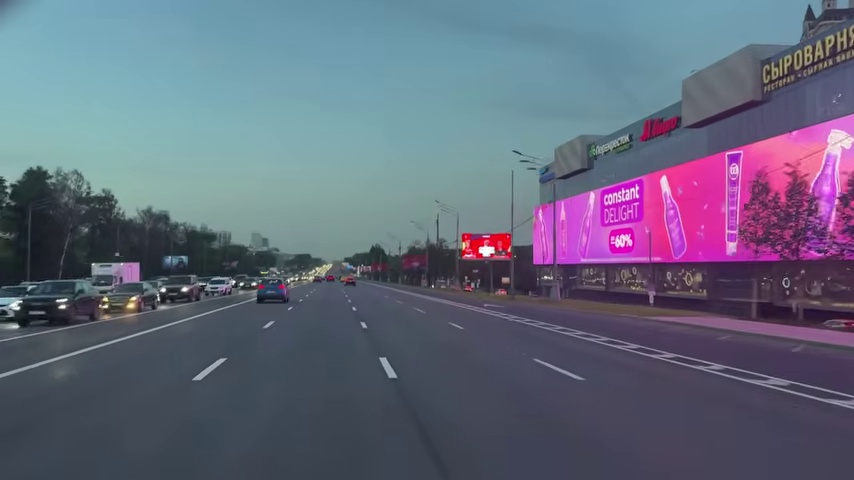apagada: (509, 146, 525, 162)
